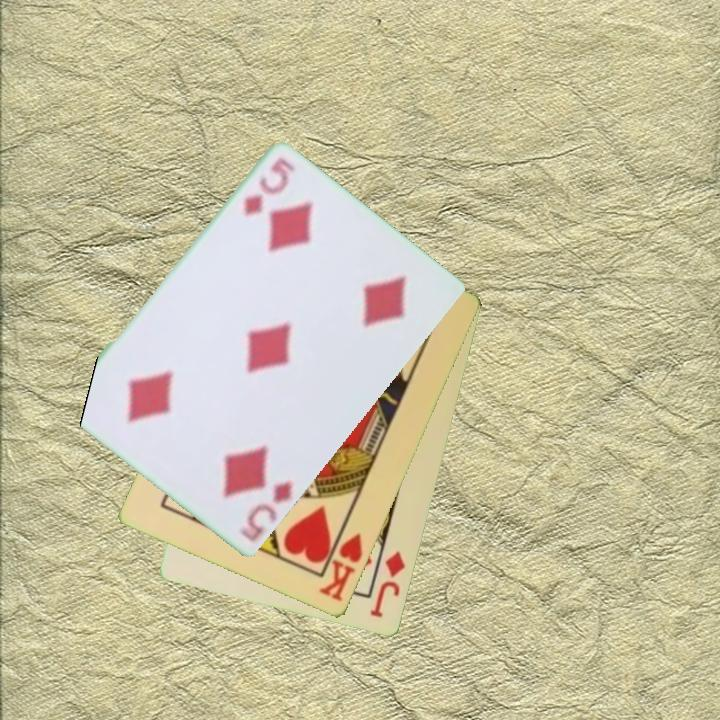5d: (241, 476, 296, 545), (240, 154, 296, 220)
Jd: (367, 548, 409, 621)
Kh: (316, 520, 366, 605)
